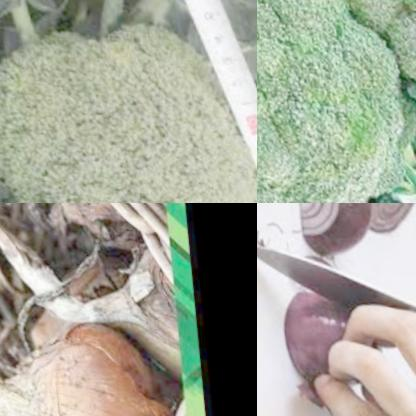broccoli: (0, 0, 257, 203), (257, 0, 416, 203), (348, 0, 416, 89)
onion: (0, 312, 153, 416), (281, 288, 386, 403), (282, 203, 381, 267), (362, 203, 416, 245)
